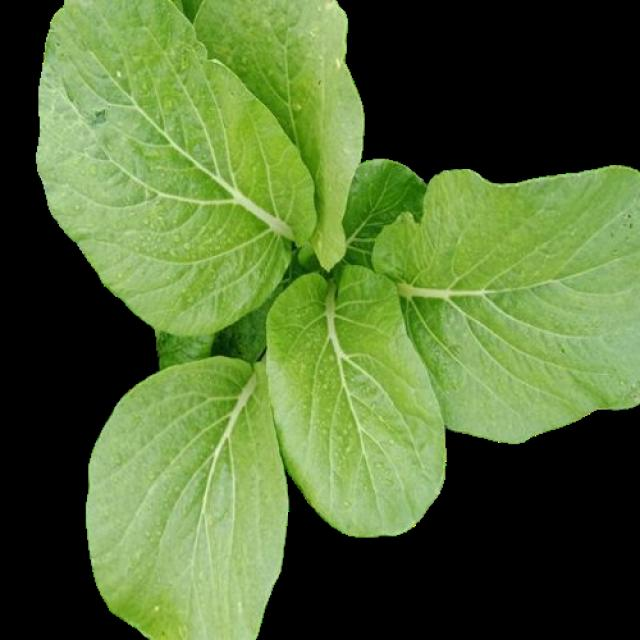mature: (25, 1, 640, 639)
unhealthy: (36, 1, 312, 337), (376, 166, 640, 444)
